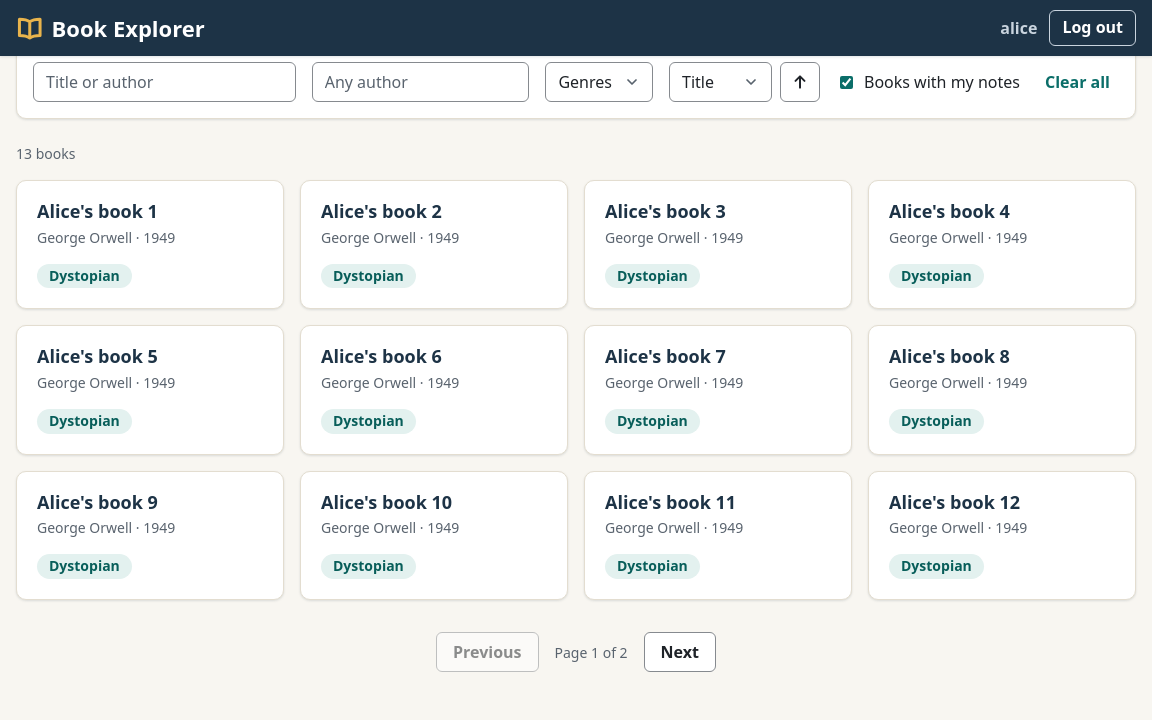
Test: a list refused because another reader logged in elsewhere shows that reader's books
(page scrolled)
Check: the link "Alice's book 1" is shown, box [37,199,158,223]
Click the button "Next" at point(680, 652), box [644,632,716,672]
(page scrolled)
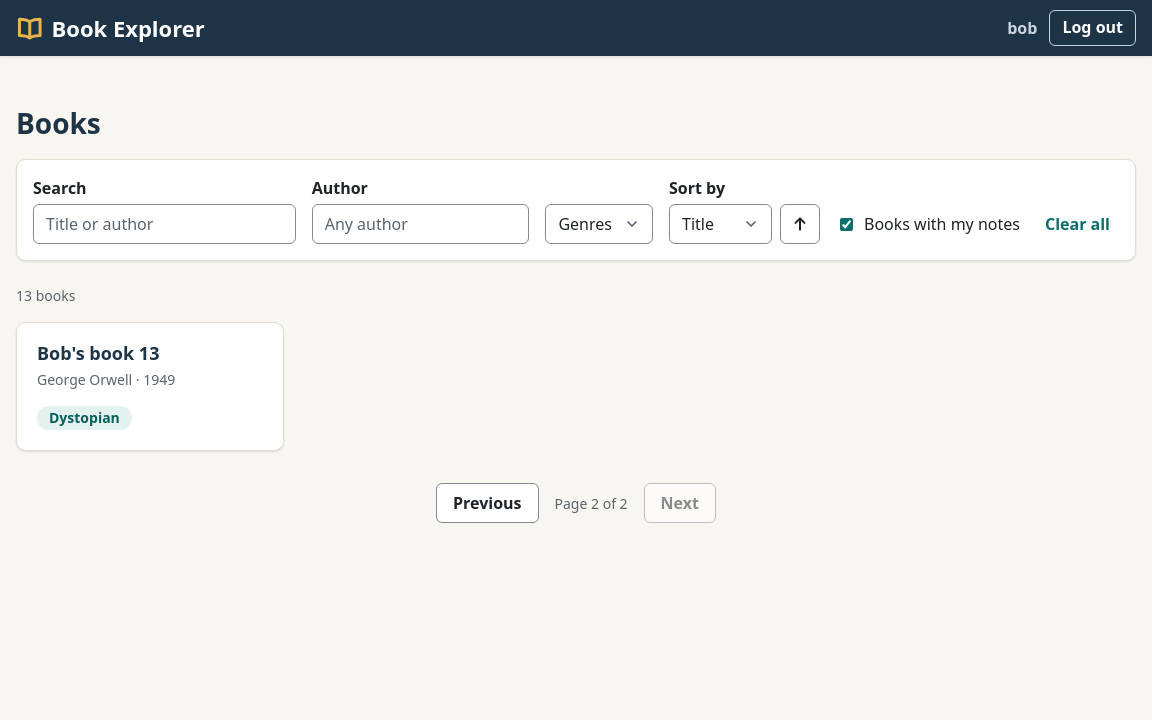
Check: the text "bob" is shown, box [1007,16,1037,40]
Check: the link "Bob's book 13" is shown, box [37,341,159,365]
